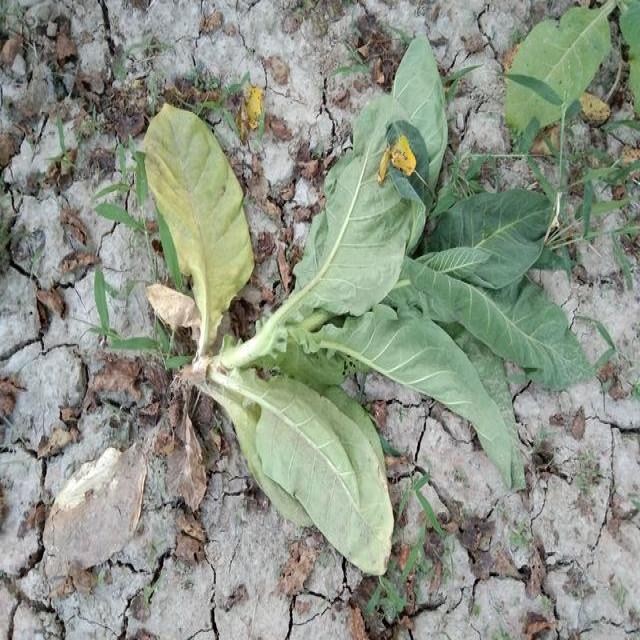crop: (98, 32, 594, 580)
